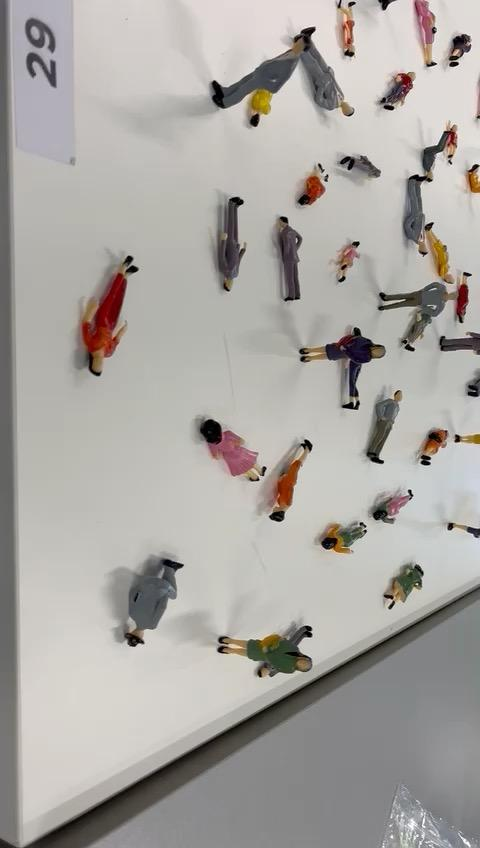human: (101, 543, 205, 667), (66, 242, 140, 386), (209, 618, 328, 694), (198, 33, 311, 109), (281, 24, 361, 118), (197, 412, 274, 486), (206, 183, 254, 299), (266, 430, 315, 528), (362, 382, 410, 472), (294, 327, 387, 363), (274, 214, 310, 307), (340, 320, 374, 411), (375, 558, 428, 613), (377, 279, 453, 317), (316, 518, 373, 567), (410, 0, 445, 78), (403, 173, 433, 258), (363, 484, 421, 524), (418, 119, 451, 186), (425, 222, 456, 290), (378, 69, 420, 119), (336, 147, 382, 186), (332, 1, 362, 60), (334, 230, 365, 286), (432, 326, 480, 360), (300, 161, 332, 212), (422, 420, 449, 477), (445, 29, 477, 75), (455, 267, 477, 326), (444, 516, 480, 551), (400, 318, 430, 356), (248, 89, 277, 127), (444, 121, 460, 166), (452, 426, 480, 451), (467, 162, 480, 198)
